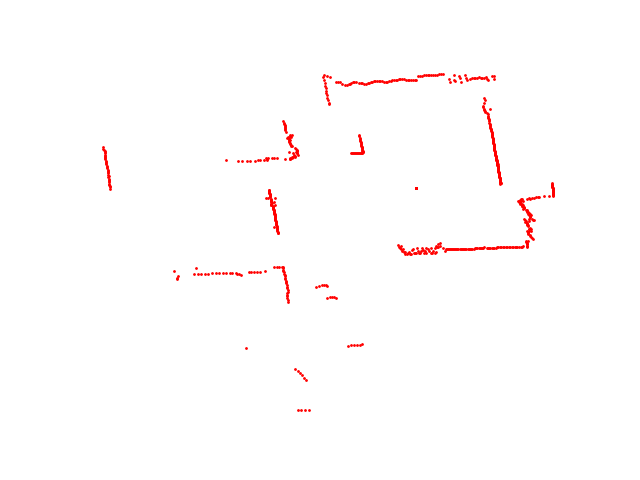person: (312, 282, 342, 305)
